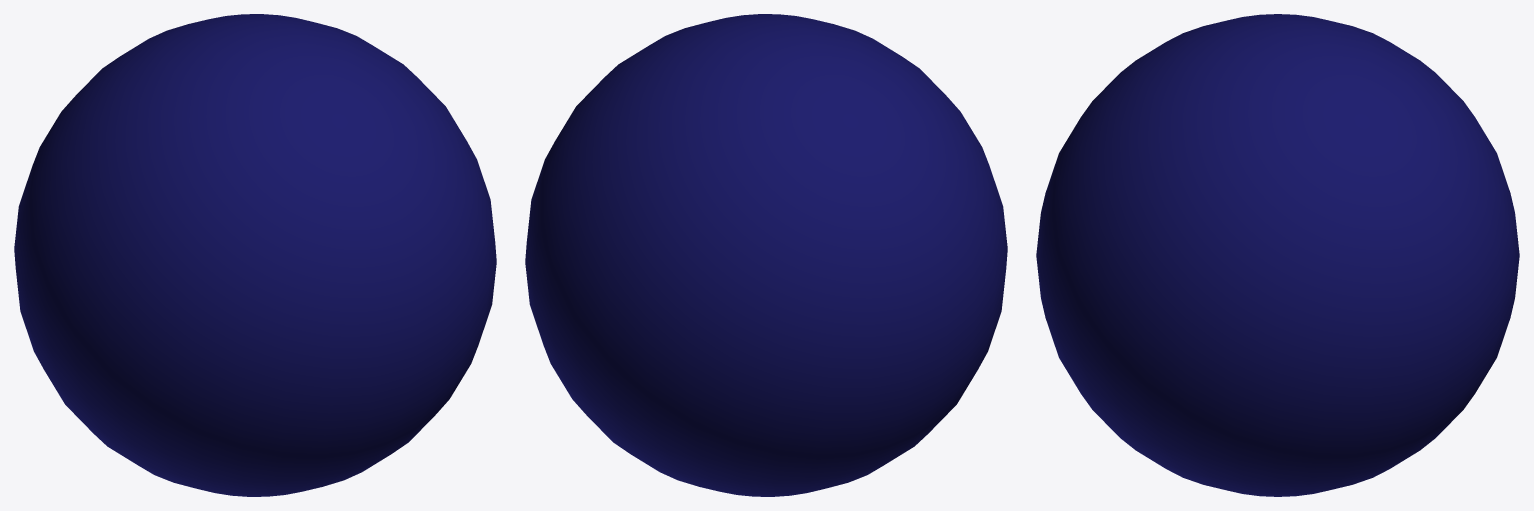
Rendered from SpaceShip_CutScene.fbx.
The picture shows the model from 3 angles, left to right: view 1: azimuth 30°, elevation 25°; view 2: azimuth 150°, elevation 25°; view 3: azimuth 270°, elevation 25°; orthographic projection.
Visible parts, largest first — view 1: DarkSky; view 2: DarkSky; view 3: DarkSky.
Boxes of the visible parts, x1,y1,x2,y2 form: DarkSky: (14, 14, 496, 496); DarkSky: (525, 14, 1007, 496); DarkSky: (1036, 14, 1519, 496).
Bounding box in the file's own units: 472 × 472 × 472.
